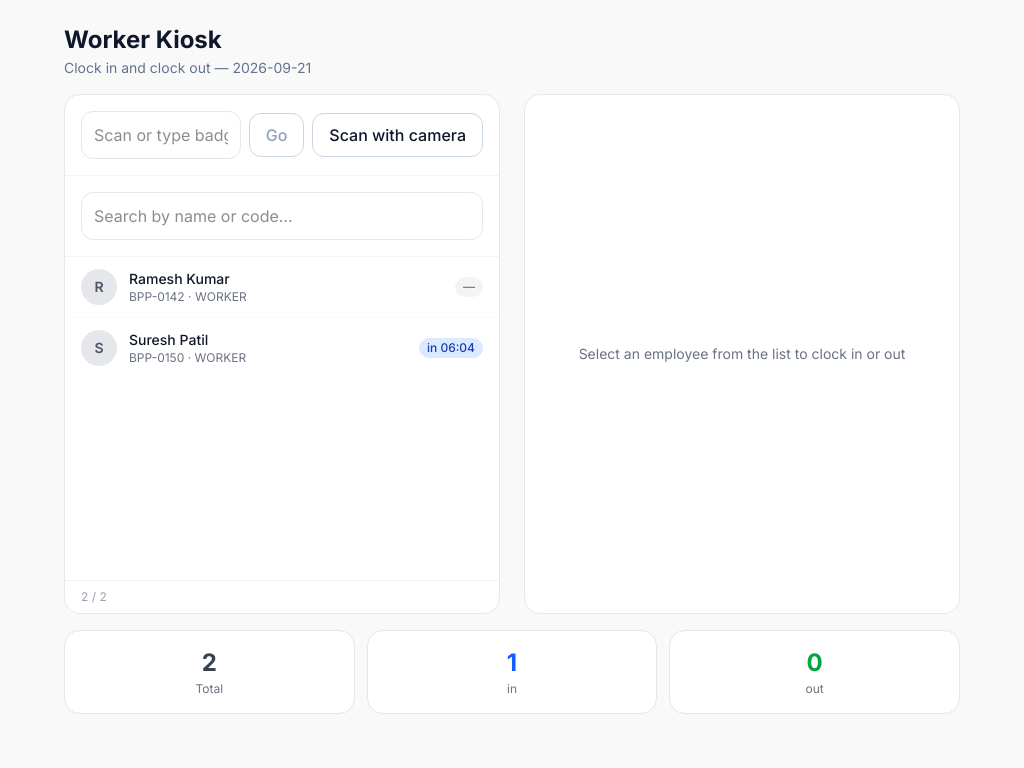
Scenario: punching › sends the badge code, the shift and the signed-in user — and reports a live success
Click the button "R Ramesh Kumar BPP-0142 · WORKER —" at (99, 287), box [65,257,499,318]
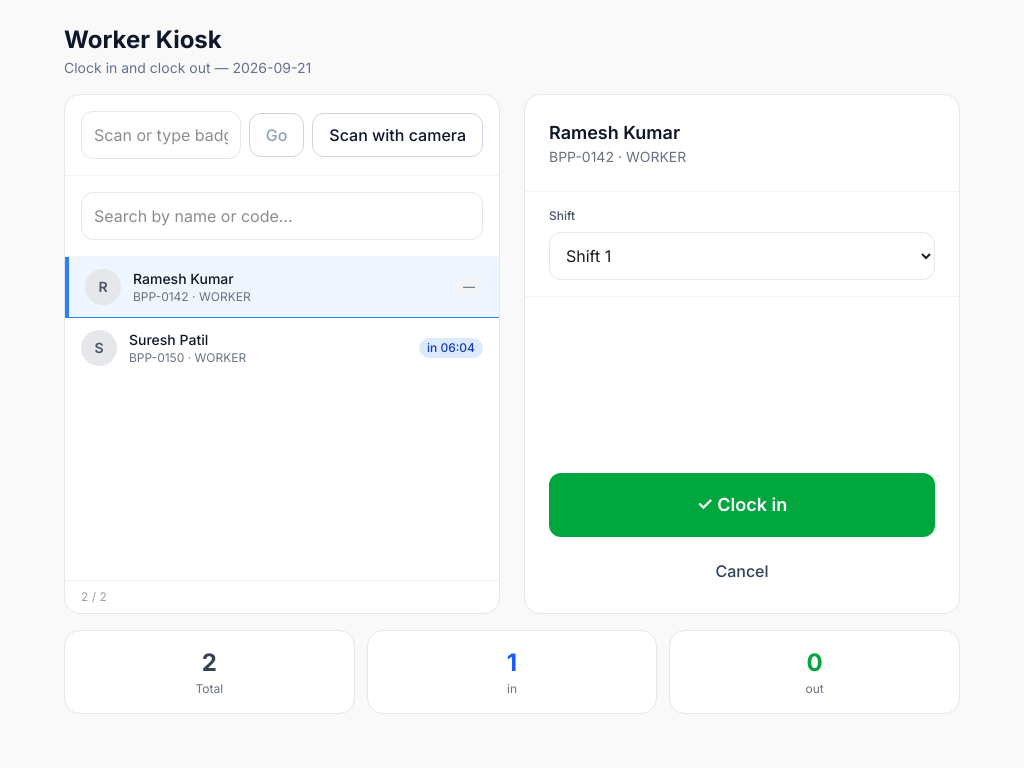
Click the button "✓ Clock in" at (742, 505), box [549,473,935,537]
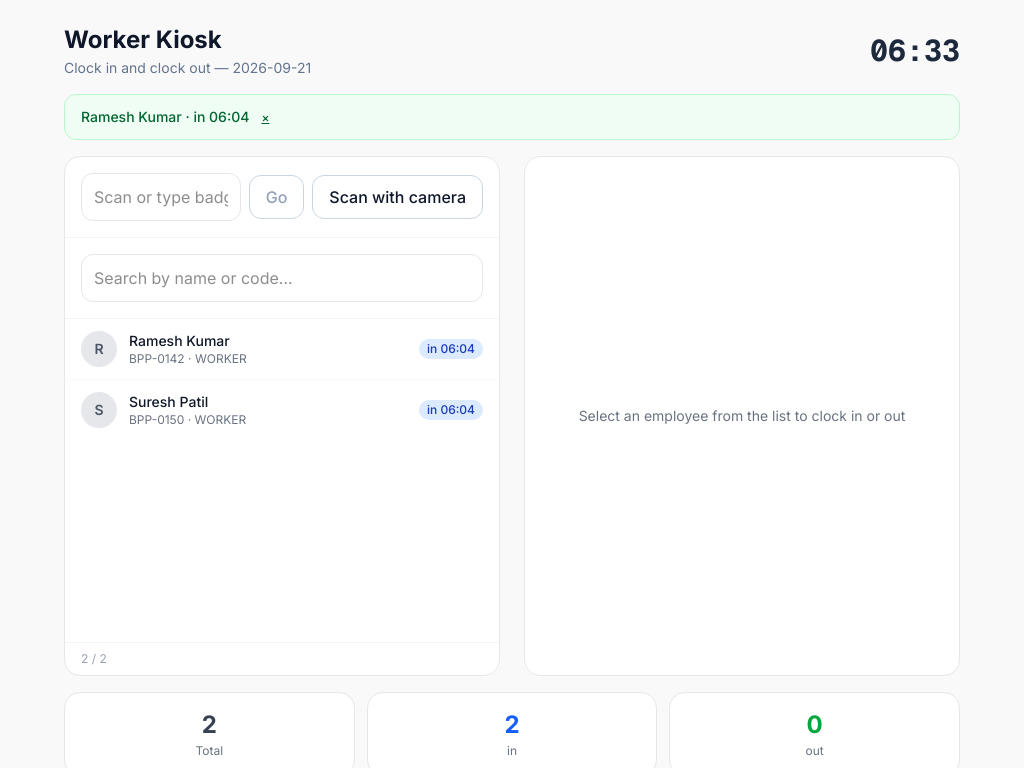
Expected: the text "Ramesh Kumar · in 06:04 ×" is shown, [64,94,960,140]
